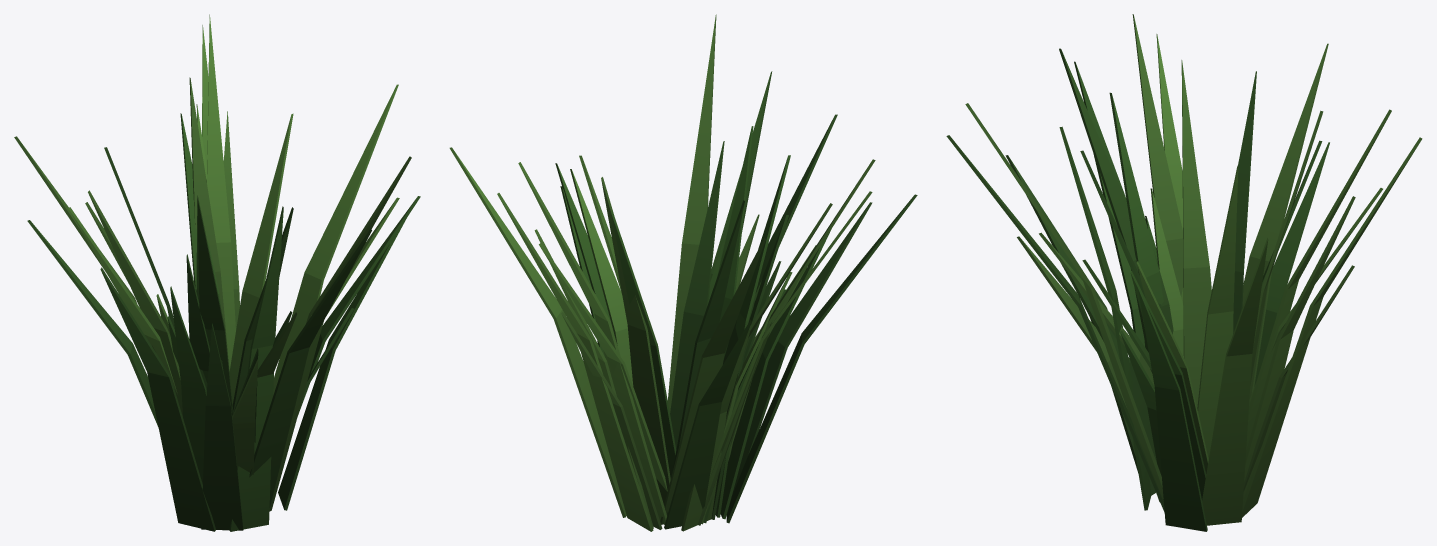
File: tuft.fbx
The picture shows the model from 3 angles, left to right: view 1: azimuth 30°, elevation 25°; view 2: azimuth 150°, elevation 25°; view 3: azimuth 270°, elevation 25°; orthographic projection. The views are drawn at different scales.
Visible parts, largest first — view 1: tuft_0, tuft_2, tuft_1, tuft_3; view 2: tuft_3, tuft_2, tuft_0, tuft_1; view 3: tuft_1, tuft_3, tuft_0, tuft_2.
Boxes of the visible parts, box(x1,y1,x2,y2) form: tuft_0: box(100, 113, 420, 531); tuft_2: box(27, 147, 292, 530); tuft_1: box(85, 84, 399, 474); tuft_3: box(14, 14, 411, 511); tuft_3: box(497, 14, 872, 531); tuft_2: box(664, 114, 872, 529); tuft_0: box(555, 71, 917, 523); tuft_1: box(449, 147, 875, 529); tuft_1: box(1017, 14, 1382, 525); tuft_3: box(965, 34, 1422, 517); tuft_0: box(946, 61, 1322, 531); tuft_2: box(1005, 48, 1329, 495).
Bounding box in the file's own units: 0.6022 × 0.6129 × 0.6054.
